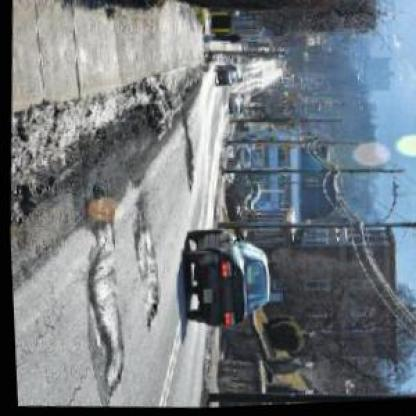pothole: (76, 247, 130, 405), (123, 223, 161, 333), (179, 134, 195, 196)
